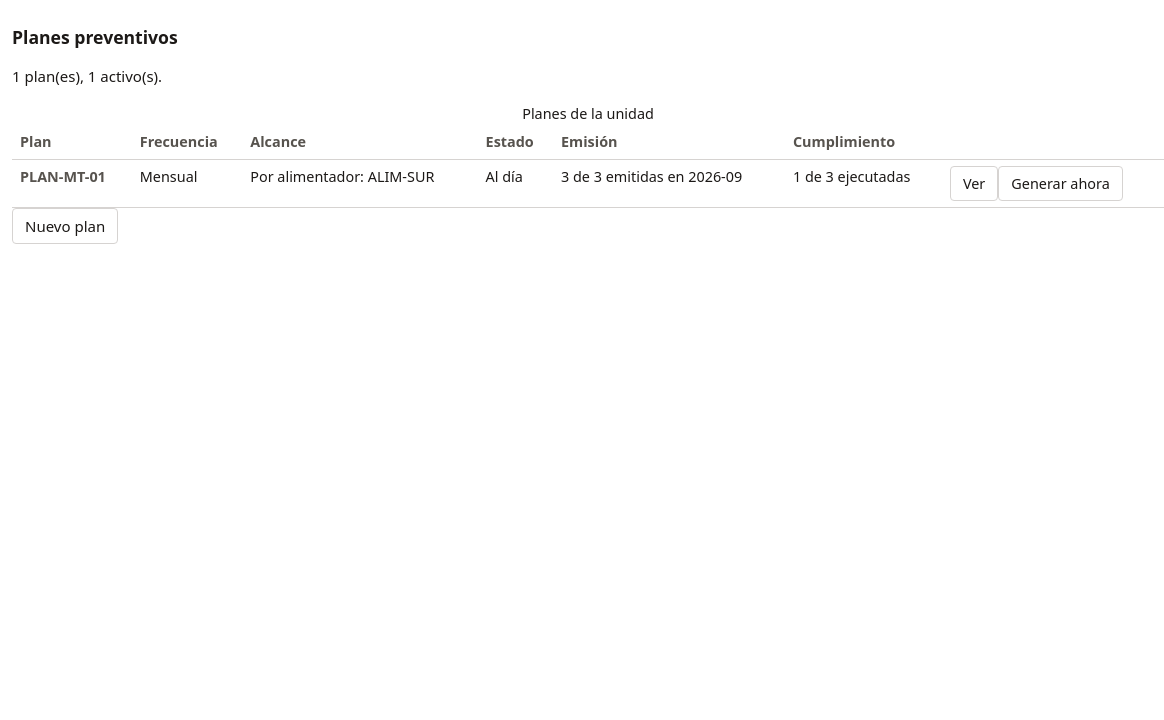
Scenario: el detalle › muestra el caveat del alcance expandido en las palabras del servidor
Step 1. Click the button "Ver" → coordinates (974, 184), box x1=950 y1=166 x2=998 y2=201
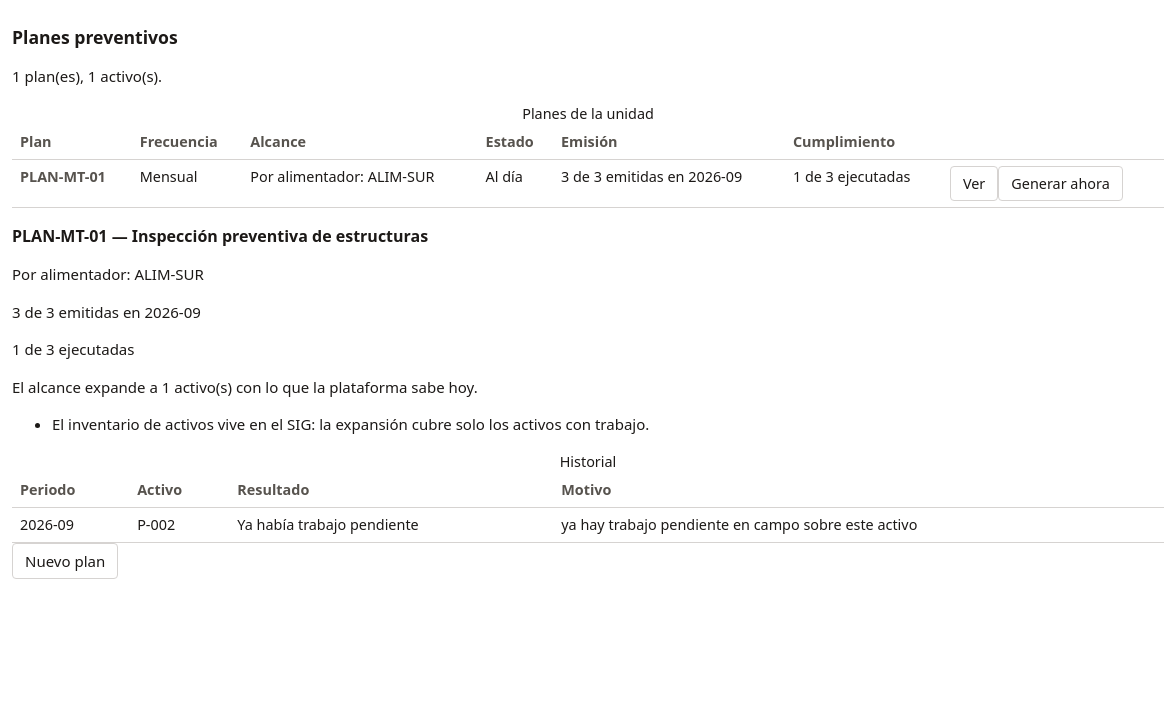
Check: the list item "El inventario de activos vive en el SIG: la expansión cubre solo los activos con trabajo." is shown, box x1=52 y1=414 x2=649 y2=434
Check: the text "expande a 1 activo" is shown, box x1=12 y1=377 x2=478 y2=397
